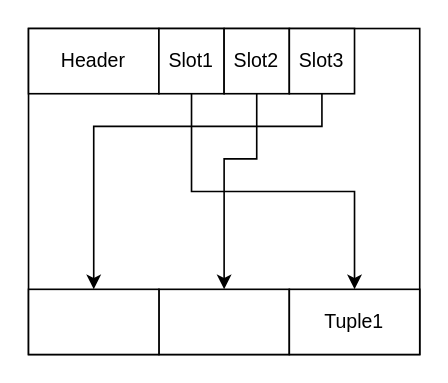
This 448x383 diagram has some shape labels left out. The shapes that lost their labels are listed below. From the top down, each one's centre as x and y in pixels, then its label:
the point at 93,321: Tuple3
the point at 223,321: Tuple2
